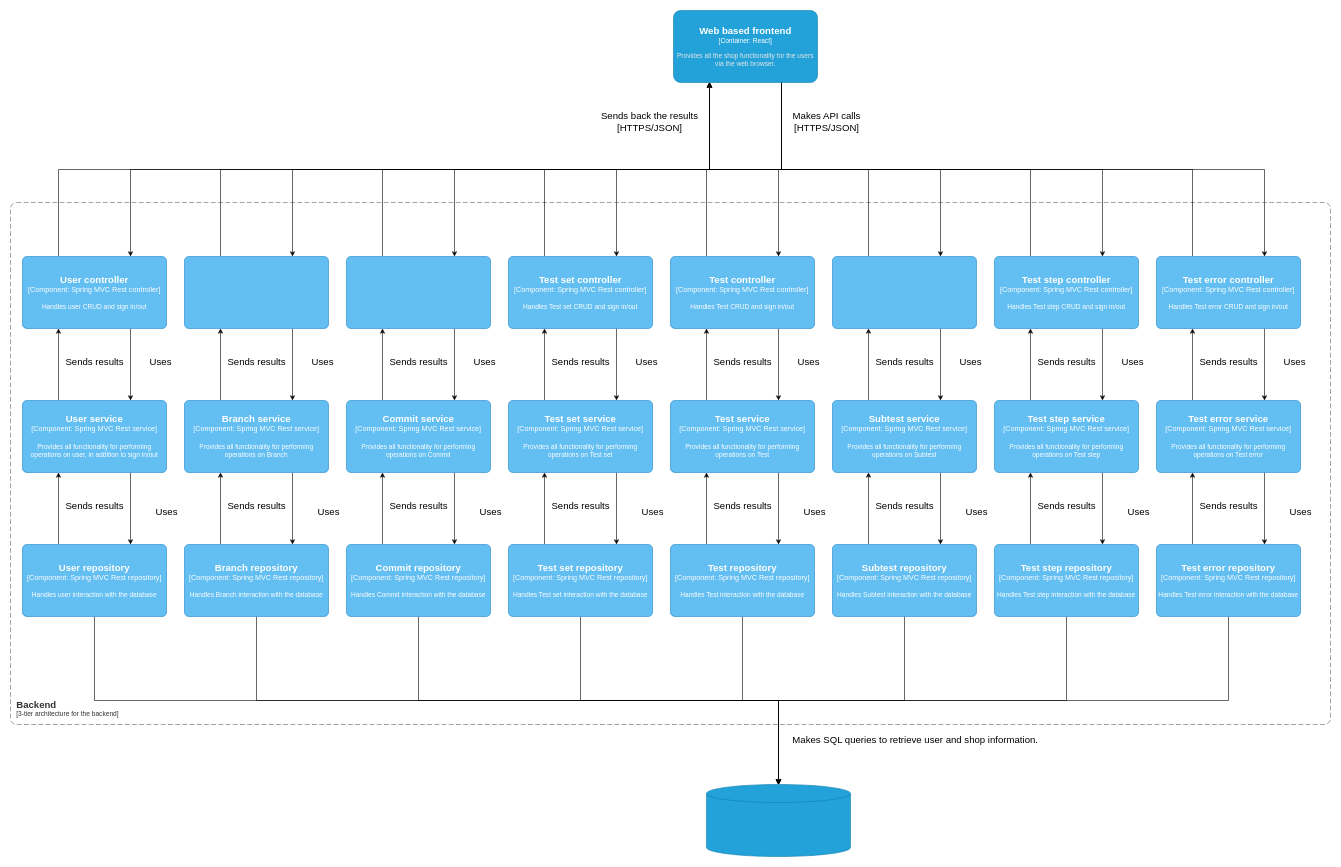
Image size: 1341x867. Some labels were removed from this diagram. Here are the shapes that lost their labels. From the top down, the box of each, then its label:
(184, 256, 328, 328): Branch controller [Component: Spring MVC Rest controller] Handles branch CRUD
(346, 256, 490, 328): Commit controller [Component: Spring MVC Rest controller] Handles Commit CRUD
(832, 256, 976, 328): Subtest controller [Component: Spring MVC Rest controller] Handles Subtest CRUD
(706, 784, 850, 856): Database [Container: MySQL] Database that will store the user and shop data.
